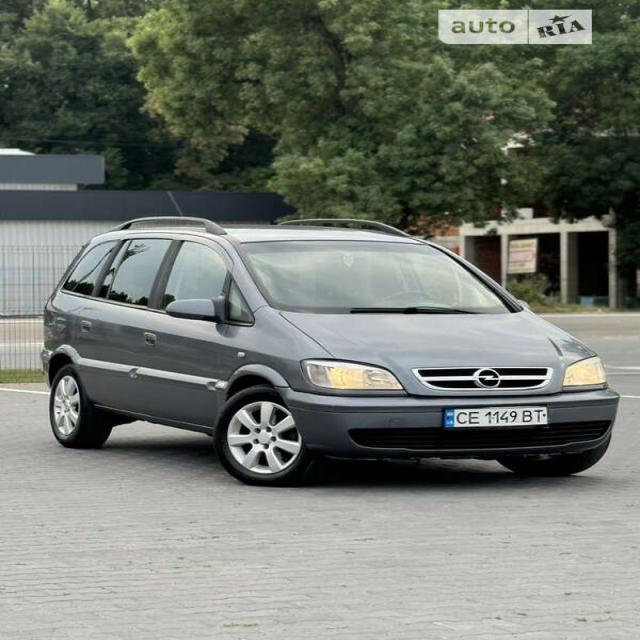plate: (441, 397, 558, 435)
